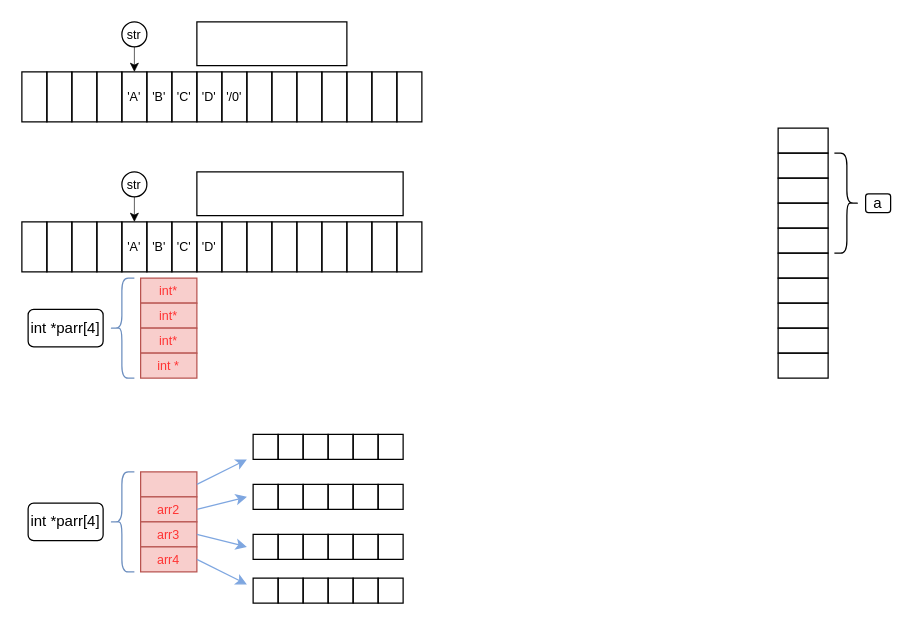
The diagram is 913 pixels wide and 625 high, and some of its shapes have lost their labels. The box of each missing label's shape, as (x1, y1, x2, y2) in pixels:
arr1: (139, 471, 197, 497)
char *str = "ABCD";: (196, 21, 347, 66)
char str[] = {'A','B','C','D'};: (196, 171, 403, 216)
